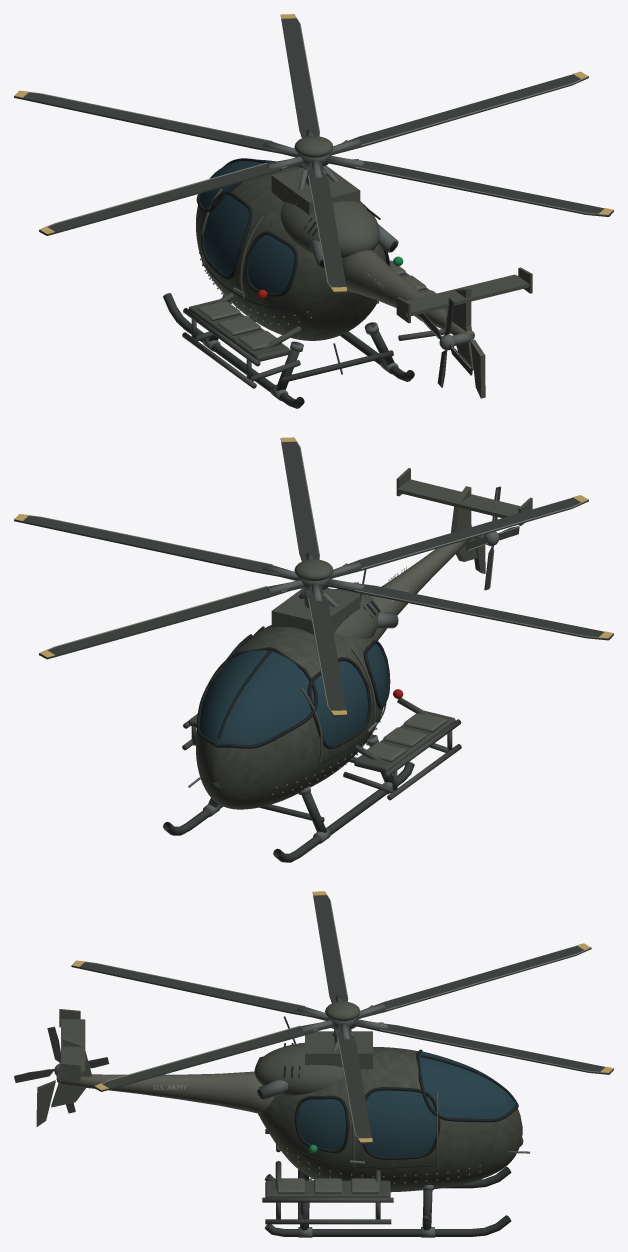
The model's file is mh6-centurion.glb.
3 views of the same model, one above another, from view 1: azimuth 30°, elevation 25°; view 2: azimuth 150°, elevation 25°; view 3: azimuth 270°, elevation 25° (orthographic). The views are drawn at different scales.
Visible parts, largest first — view 1: Main rotor blades, Fuselage, Tail, Canopy, Landing skids, Window frames, Main rotor, External personnel bench, Tail rotor blades, Personnel seat cushion.001, Personnel seat cushion.002, Bench foot rail (+1 smaller); view 2: Main rotor blades, Fuselage, Canopy, Tail, Window frames, Landing skids, Main rotor, External personnel bench, Tail rotor blades; view 3: Fuselage, Main rotor blades, Canopy, Tail, Landing skids, Window frames, Main rotor, External personnel bench.001, Tail rotor blades, Bench outboard rail.001, Bench foot rail.001.
Part boxes in pixels (x1,y1,x2,y2): Main rotor blades: (14,14,613,293); Fuselage: (196,165,398,340); Tail: (341,250,532,398); Canopy: (199,159,294,292); Landing skids: (163,293,414,408); Window frames: (196,158,390,308); Main rotor: (263,129,364,177); External personnel bench: (188,299,289,361); Tail rotor blades: (419,297,472,387); Personnel seat cushion.001: (218,316,260,335); Personnel seat cushion.002: (197,301,240,320); Bench foot rail: (182,332,256,388); Main rotor blades: (14,438,613,717); Fuselage: (196,588,398,809); Canopy: (199,644,387,745); Tail: (367,468,532,640); Window frames: (196,626,390,765); Landing skids: (163,735,414,862); Main rotor: (263,552,364,601); External personnel bench: (354,710,455,772); Tail rotor blades: (466,486,519,590); Fuselage: (254,1031,522,1192); Main rotor blades: (71,892,613,1144); Canopy: (297,1051,516,1156); Tail: (36,1009,273,1126); Landing skids: (264,1166,511,1237); Window frames: (294,1049,518,1168); Main rotor: (296,995,388,1039); External personnel bench.001: (265,1180,390,1197); Tail rotor blades: (14,1026,109,1113); Bench outboard rail.001: (262,1197,393,1202); Bench foot rail.001: (265,1219,391,1224).
Bounding box in the file's own units: 8.07 × 3.11 × 8.13.
Materials: 16 (1 with a texture image).
